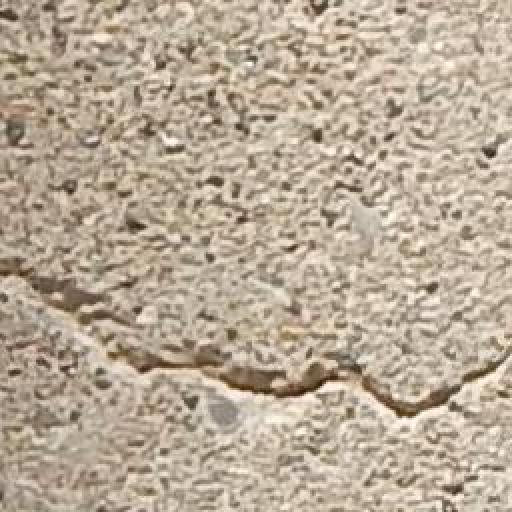spalling: (10, 247, 507, 453)
